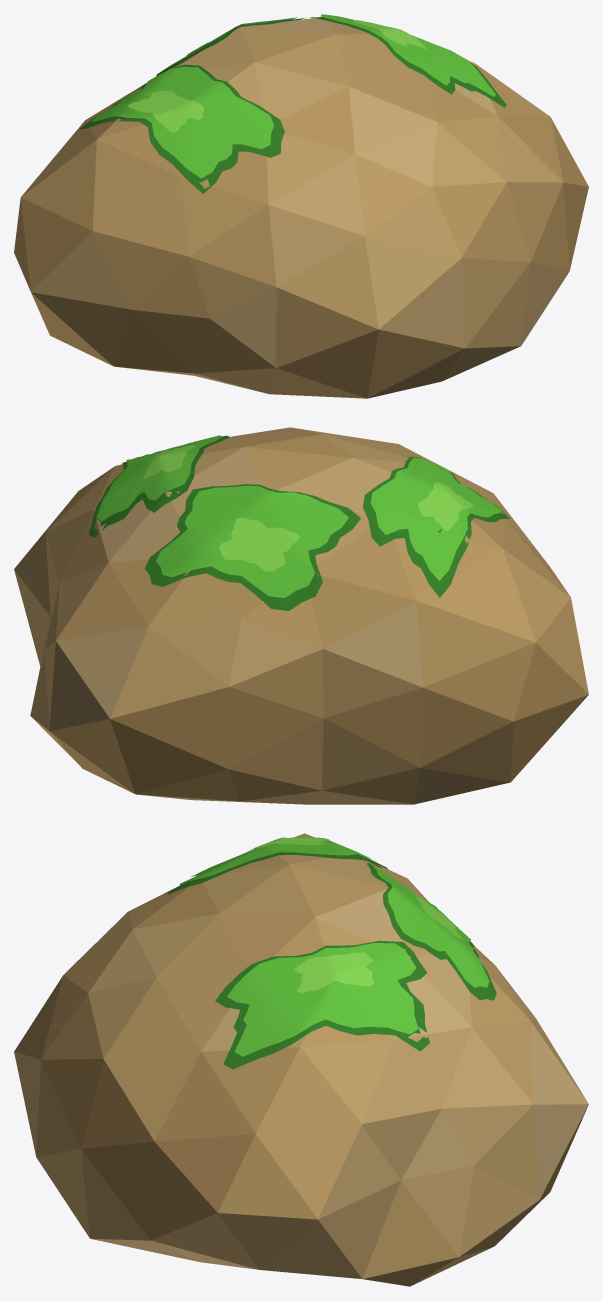
The model's file is rock_5_rim.glb.
The picture shows the model from 3 angles, top to bottom: view 1: azimuth 30°, elevation 25°; view 2: azimuth 150°, elevation 25°; view 3: azimuth 270°, elevation 25°; orthographic projection. The views are drawn at different scales.
Parts seen in each view (by area): view 1: rock_5_rim; view 2: rock_5_rim; view 3: rock_5_rim.
Part boxes in pixels (box(x1,y1,x2,y2)): rock_5_rim: box(14, 14, 588, 398); rock_5_rim: box(14, 427, 588, 804); rock_5_rim: box(14, 833, 588, 1286).
Bounding box in the file's own units: 4.02 × 2.11 × 3.42.
